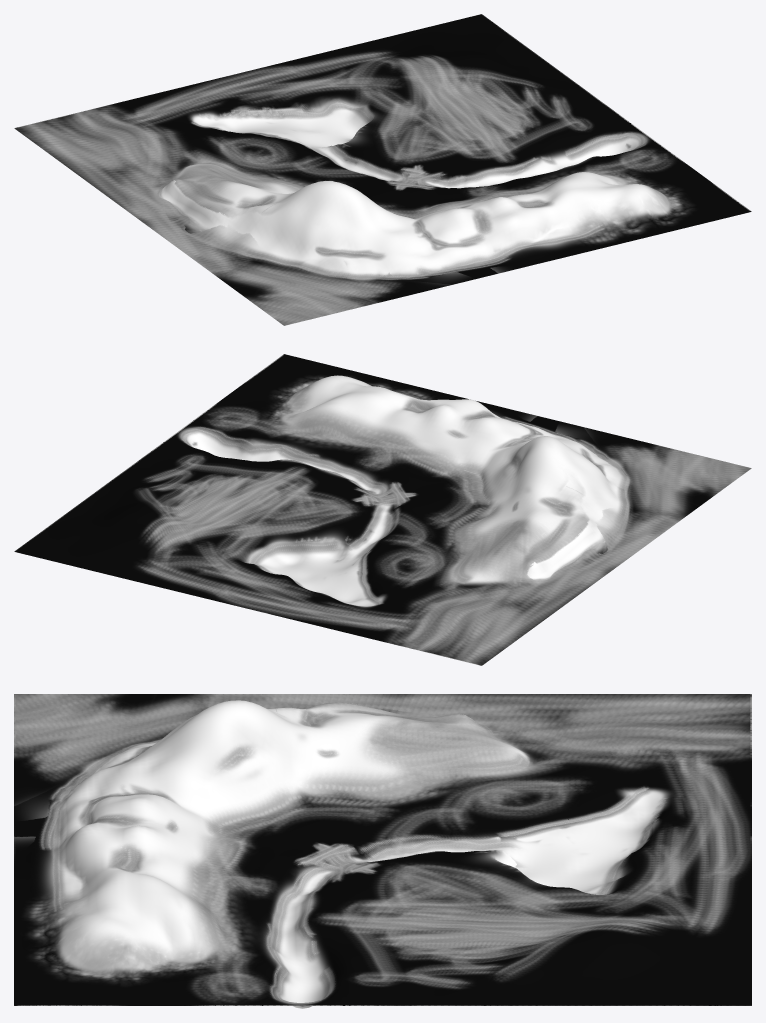
The model's file is map_1.gltf.
3 views of the same model, one above another, from view 1: azimuth 30°, elevation 25°; view 2: azimuth 150°, elevation 25°; view 3: azimuth 270°, elevation 25° (orthographic). The views are drawn at different scales.
Visible parts, largest first — view 1: Plane; view 2: Plane; view 3: Plane.
Boxes of the visible parts, x1=… form: Plane: x1=14, y1=14, x2=751, y2=325; Plane: x1=14, y1=354, x2=751, y2=665; Plane: x1=14, y1=694, x2=751, y2=1008.
Size of the model in its own units: 2000 by 299 by 2000.
Materials: 1 (1 with a texture image).
